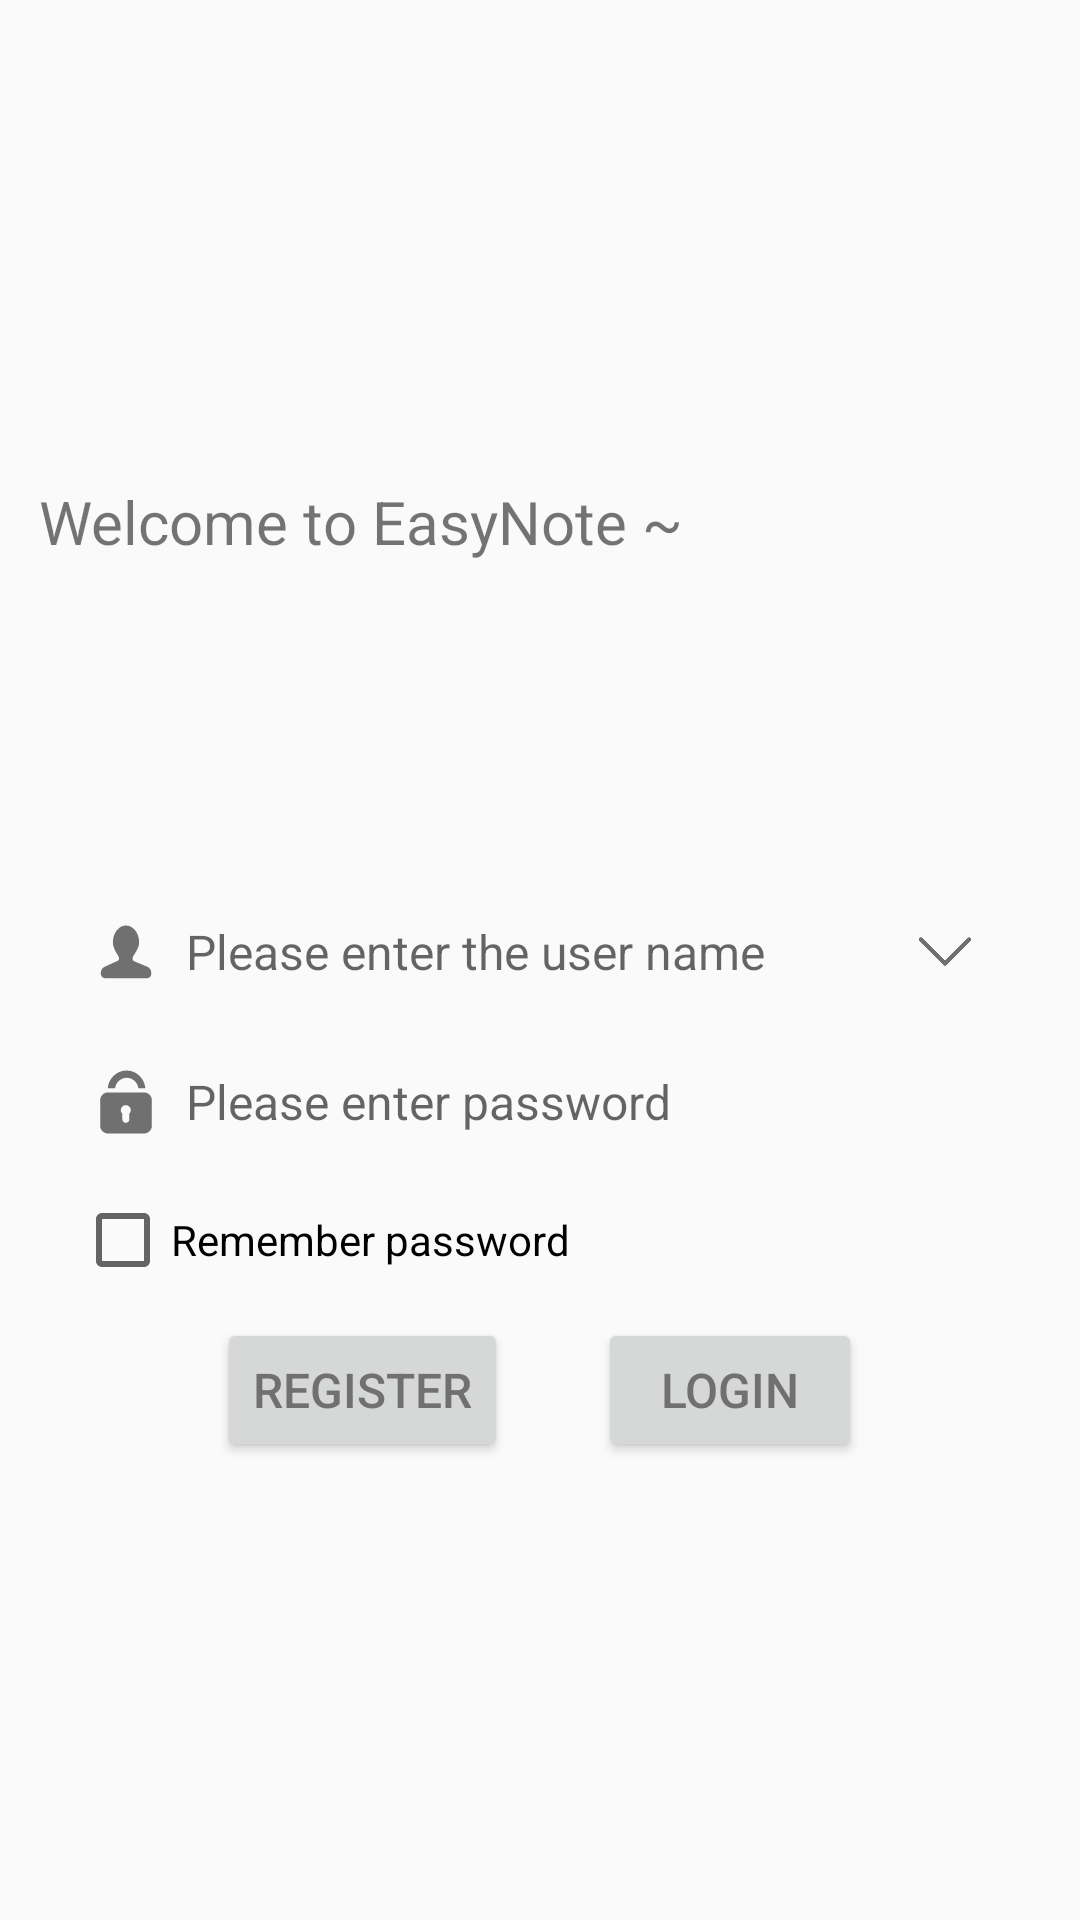

Where to tap for icons on this 1080 × 1920 app screen, as (x=x, y=y):
arrow down: (x=945, y=951)
